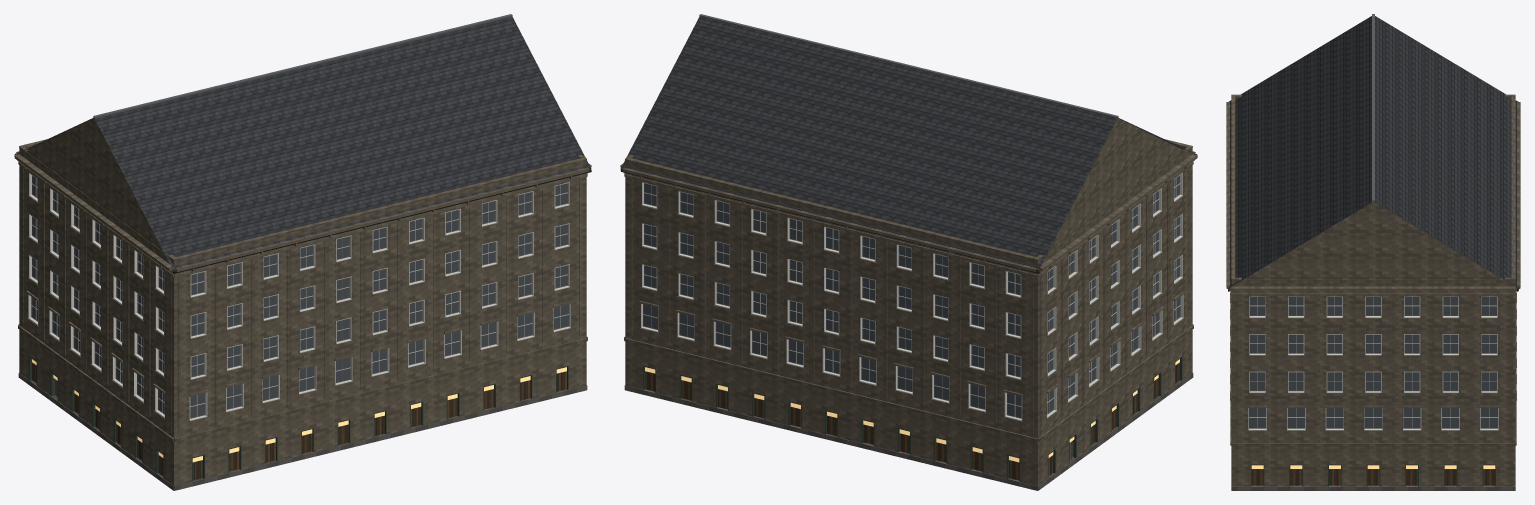
The model's file is A_hotel.glb.
3 views of the same model, side by side, from view 1: azimuth 30°, elevation 25°; view 2: azimuth 150°, elevation 25°; view 3: azimuth 270°, elevation 25° (orthographic). The views are drawn at different scales.
Parts seen in each view (by area): view 1: A_hotel; view 2: A_hotel; view 3: A_hotel.
Boxes of the visible parts, x1,y1,x2,y2 form: A_hotel: (14, 14, 591, 490); A_hotel: (620, 14, 1197, 490); A_hotel: (1226, 14, 1520, 490).
Bounding box in the file's own units: 40.98 × 29.48 × 26.98.
14 materials, 7 textured.
